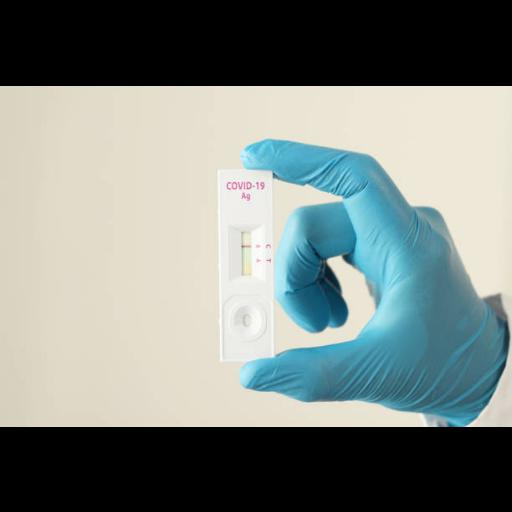Neg: (218, 170, 274, 358)
